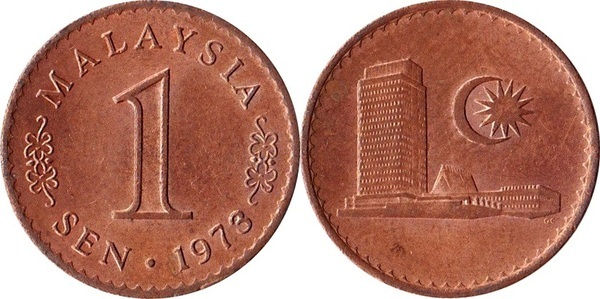1c: (0, 0, 300, 299)
